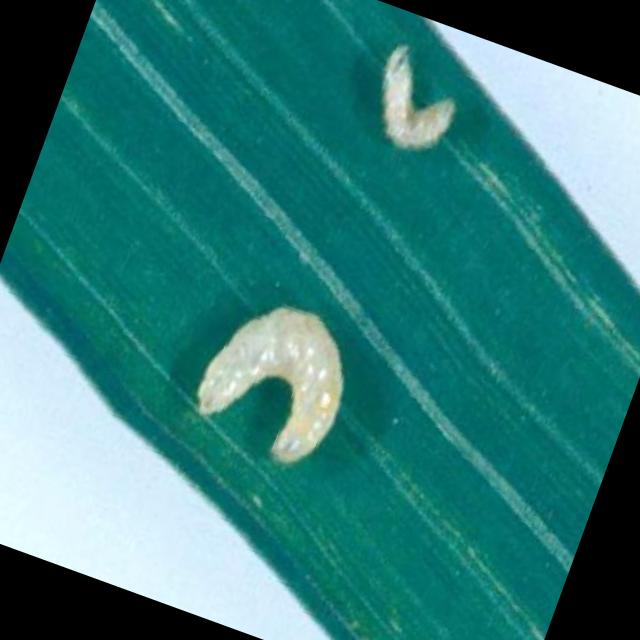whorl-maggot: (174, 271, 378, 488), (346, 27, 484, 172)
